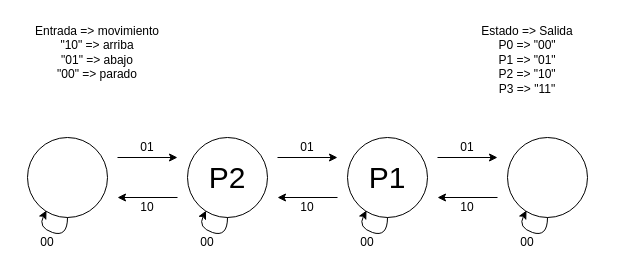
The diagram is 624 pixels wide and 274 high, and some of its shapes have lost their labels. Here are the shapes that lost their labels. From the top down, the box of each, then its label:
(26, 136, 108, 218): P3
(506, 136, 588, 218): P0
